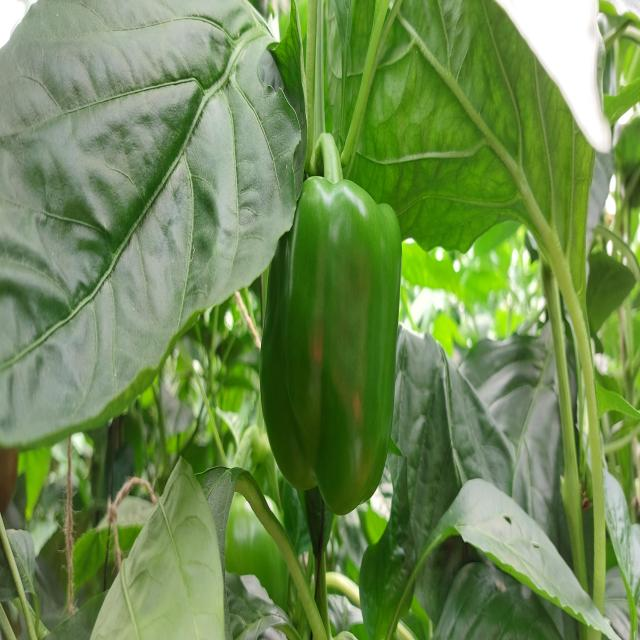Green--Not-ready-to-harvest: (266, 180, 399, 520)
